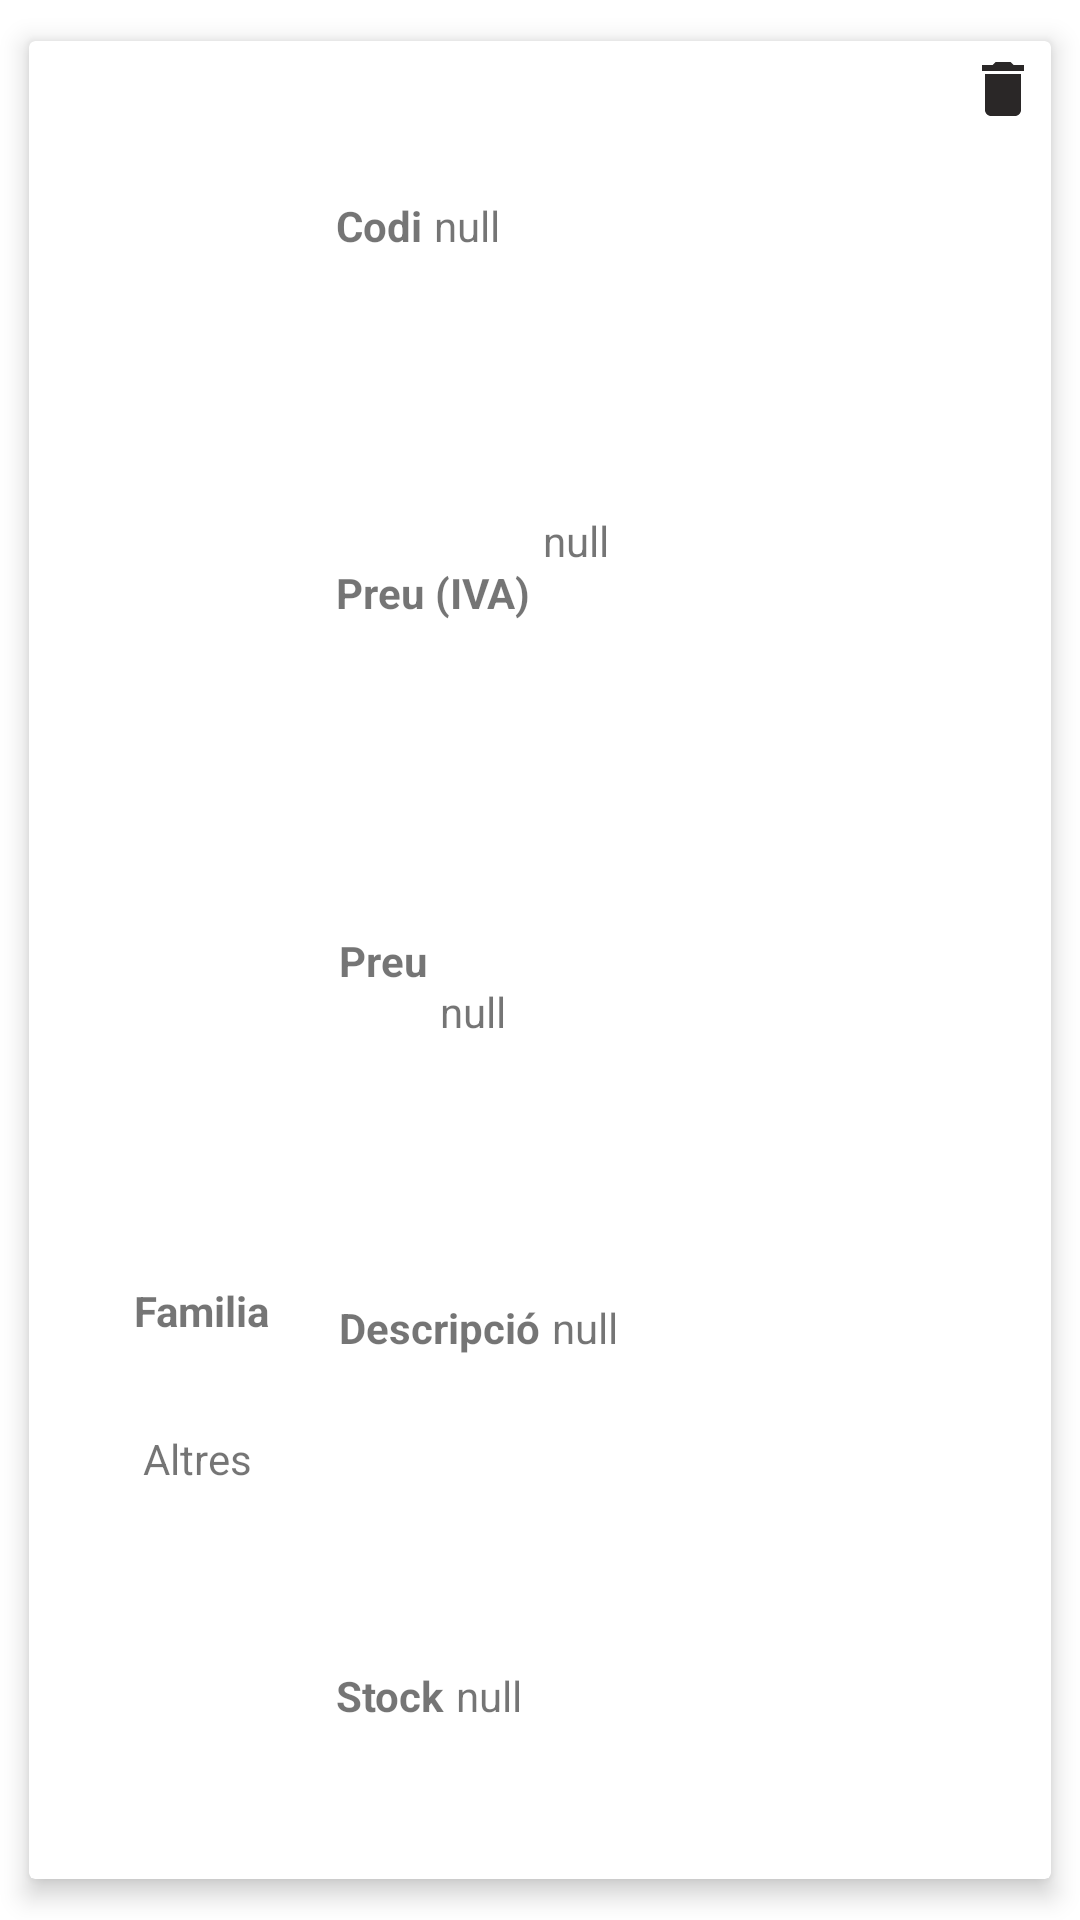

Icons on this 1080px x 1920px Android screen, each with its box as (x1, y1, x2, y2):
delete: (982, 62, 1024, 116)
